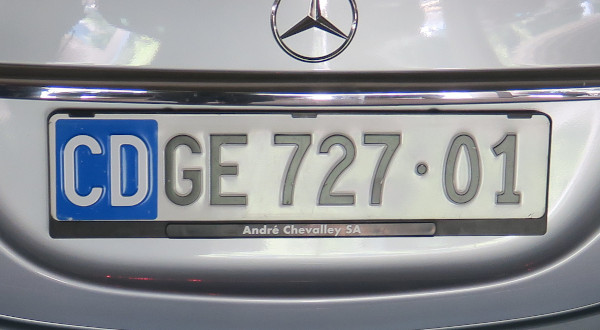license_plate: (47, 110, 550, 221)
